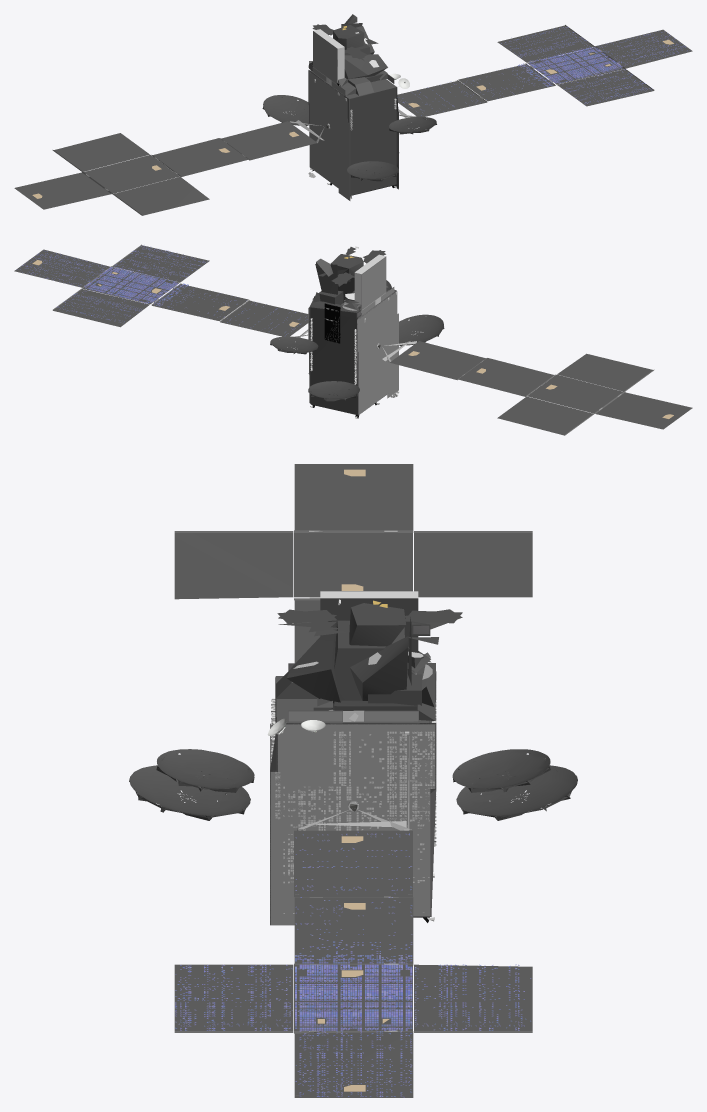
3 views of the same model, one above another, from view 1: azimuth 30°, elevation 25°; view 2: azimuth 150°, elevation 25°; view 3: azimuth 270°, elevation 25° (orthographic). The views are drawn at different scales.
Visible parts, largest first — view 1: Empty_Mesh; view 2: Empty_Mesh; view 3: Empty_Mesh.
Part boxes in pixels (box(x1,y1,x2,y2)): Empty_Mesh: box(14, 14, 692, 215); Empty_Mesh: box(14, 244, 692, 435); Empty_Mesh: box(129, 464, 577, 1097).
Bounding box in the file's own units: 268 × 61.21 × 80.35.
